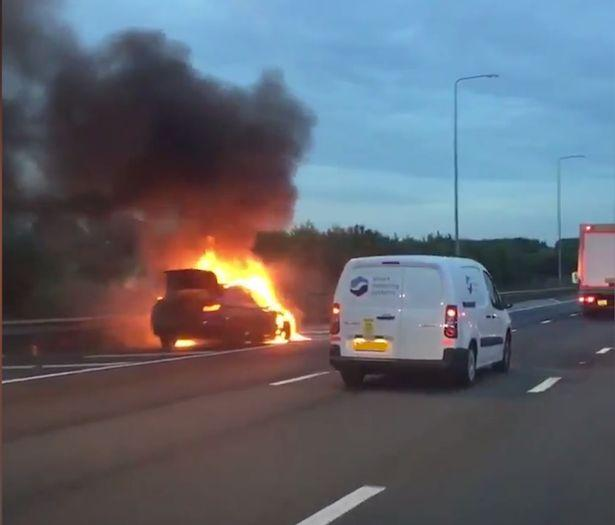Fire: (200, 243, 306, 347)
